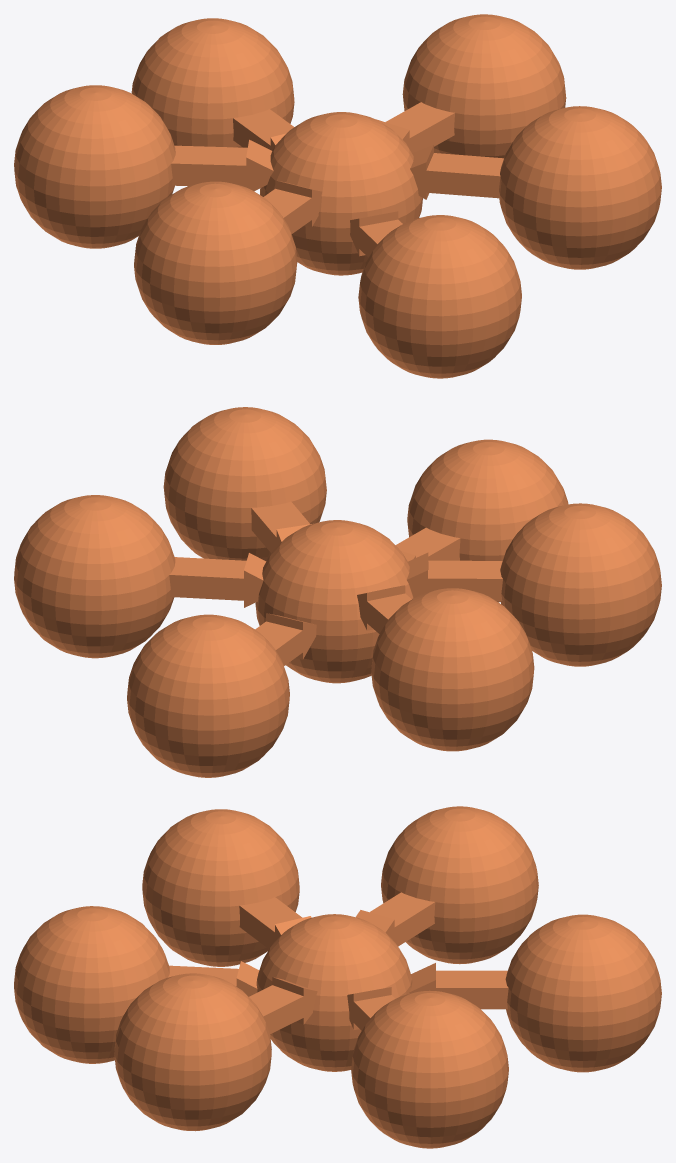
File: BaffPullToPlayer.fbx
3 views of the same model, one above another, from view 1: azimuth 30°, elevation 25°; view 2: azimuth 150°, elevation 25°; view 3: azimuth 270°, elevation 25° (orthographic). The views are drawn at different scales.
Visible parts, largest first — view 1: BallOne, Knock; view 2: BallOne, Knock; view 3: BallOne, Knock.
Boxes of the visible parts, x1,y1,x2,y2 form: BallOne: (14,14,661,378); Knock: (171,102,503,257); BallOne: (14,407,661,777); Knock: (169,502,502,665); BallOne: (14,806,661,1148); Knock: (168,892,508,1034).
Size of the model in its own units: 313 by 102 by 350.
